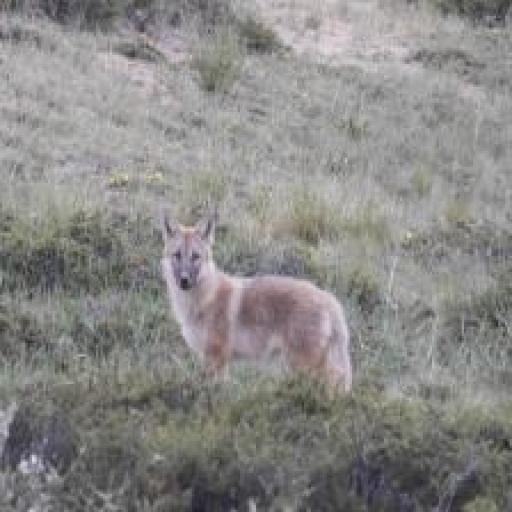wolf: (158, 204, 353, 420)
